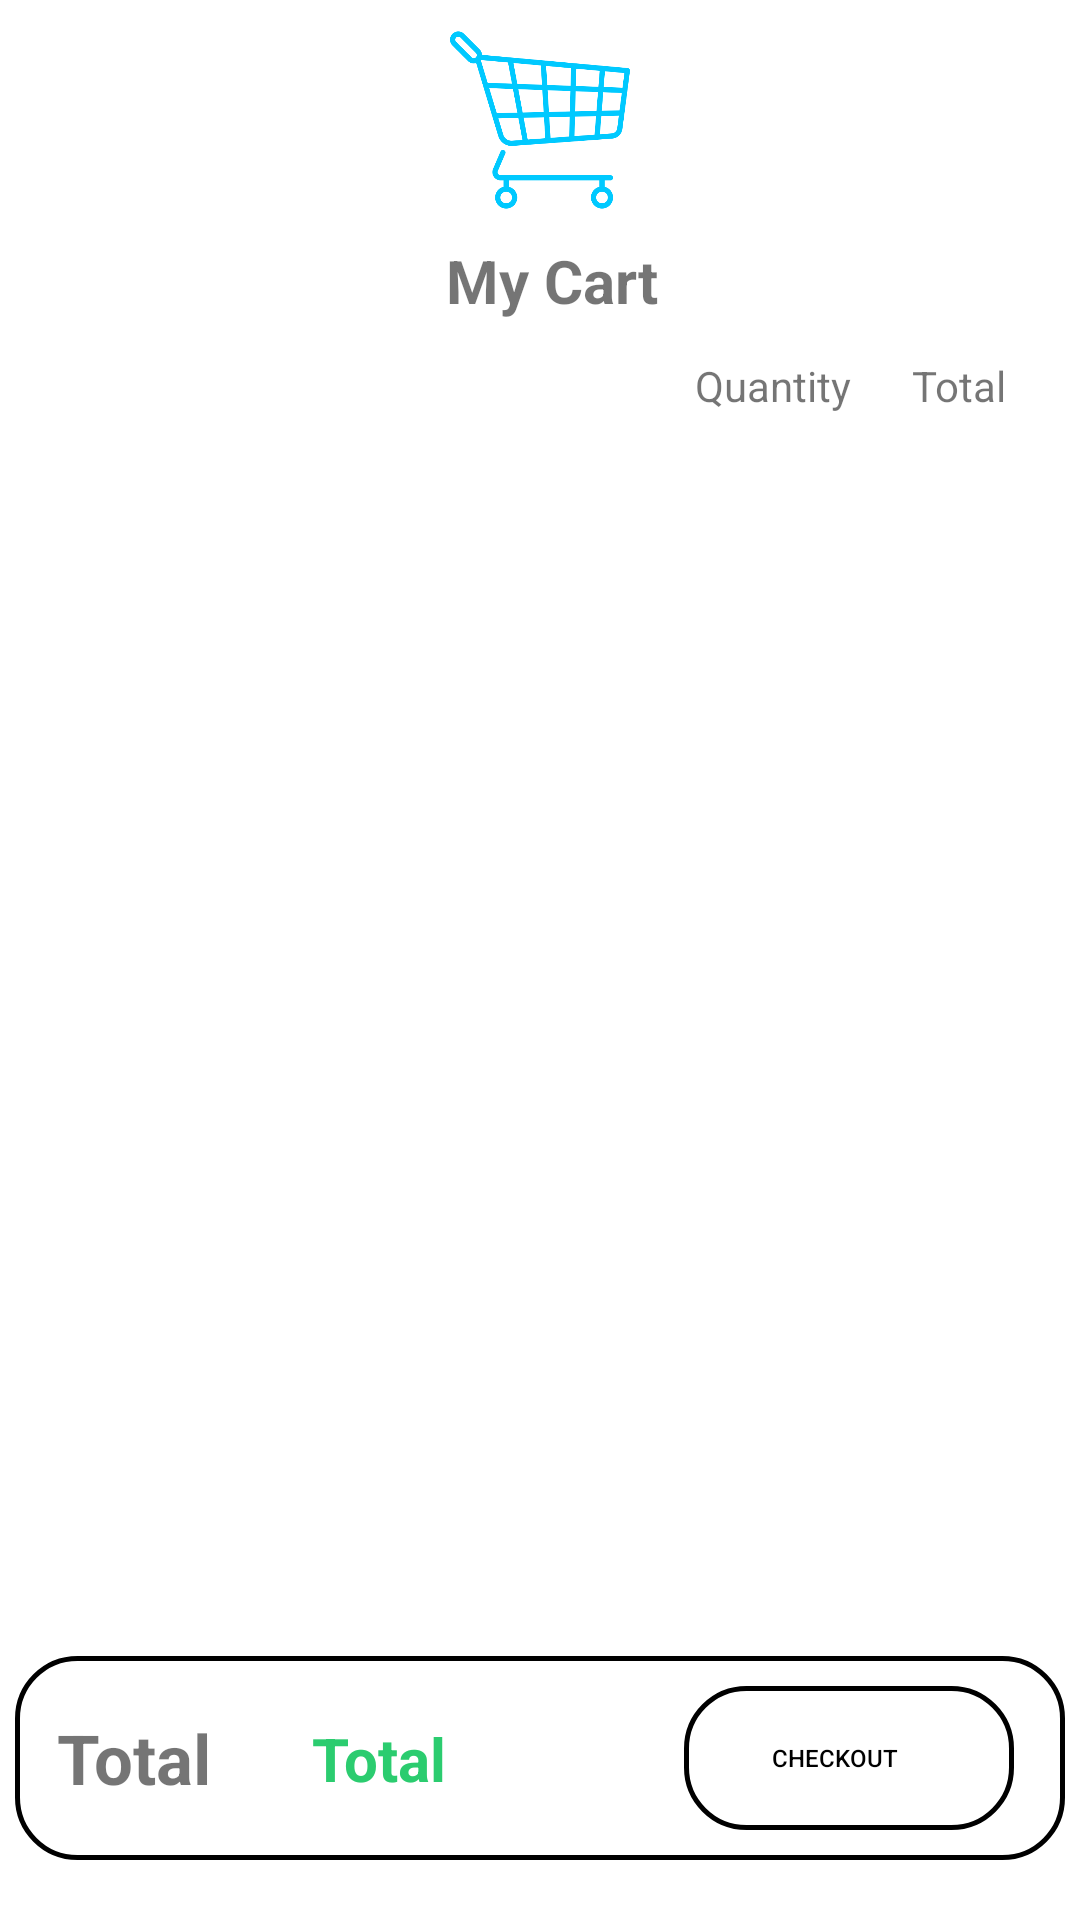

Where icons sit on this 1080×1920 app screen, as [x1=x1, y1=y1, x2=x2, y2=y2]:
shopping cart: [x1=450, y1=31, x2=630, y2=209]
